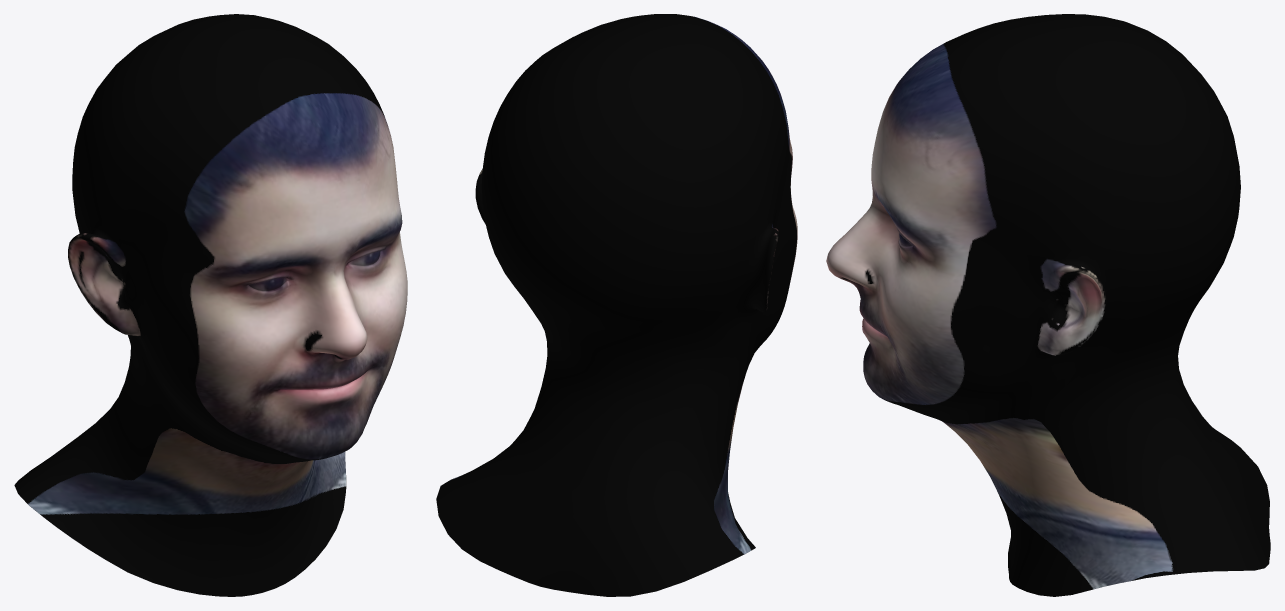
3 renders of one model, left to right at view 1: azimuth 30°, elevation 25°; view 2: azimuth 150°, elevation 25°; view 3: azimuth 270°, elevation 25°, orthographic. The views are drawn at different scales.
Parts seen in each view (by area): view 1: FaceBuilderHead; view 2: FaceBuilderHead; view 3: FaceBuilderHead.
Boxes of the visible parts, <box> form: FaceBuilderHead: <box>14,14,407,596</box>; FaceBuilderHead: <box>436,14,797,596</box>; FaceBuilderHead: <box>826,14,1270,596</box>.
Size of the model in its own units: 1.76 by 2.88 by 2.12.
Materials: 1 (1 with a texture image).
